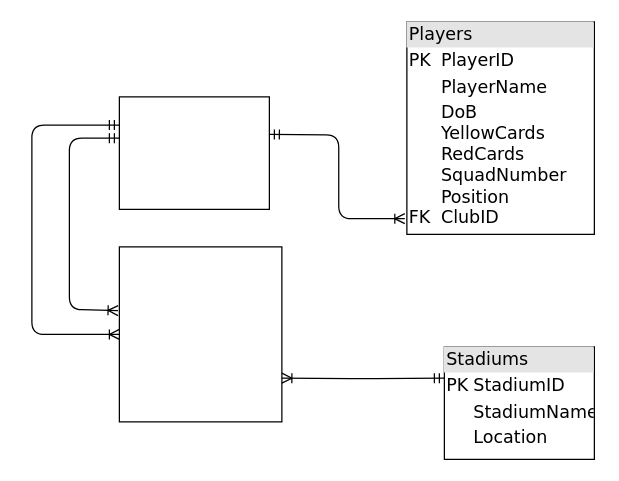
Image size: 619x481. Some labels were removed from this diagram. The box of each missing label's shape, as (x1, y1, x2, y2) in pixels:
Clubs PK ClubID ClubName SponsorName: (118, 96, 269, 209)
Matches PK MatchID FK1 HomeClubID FK2 AwayClubID FK3 Score StadiumID Time: (118, 246, 282, 422)
